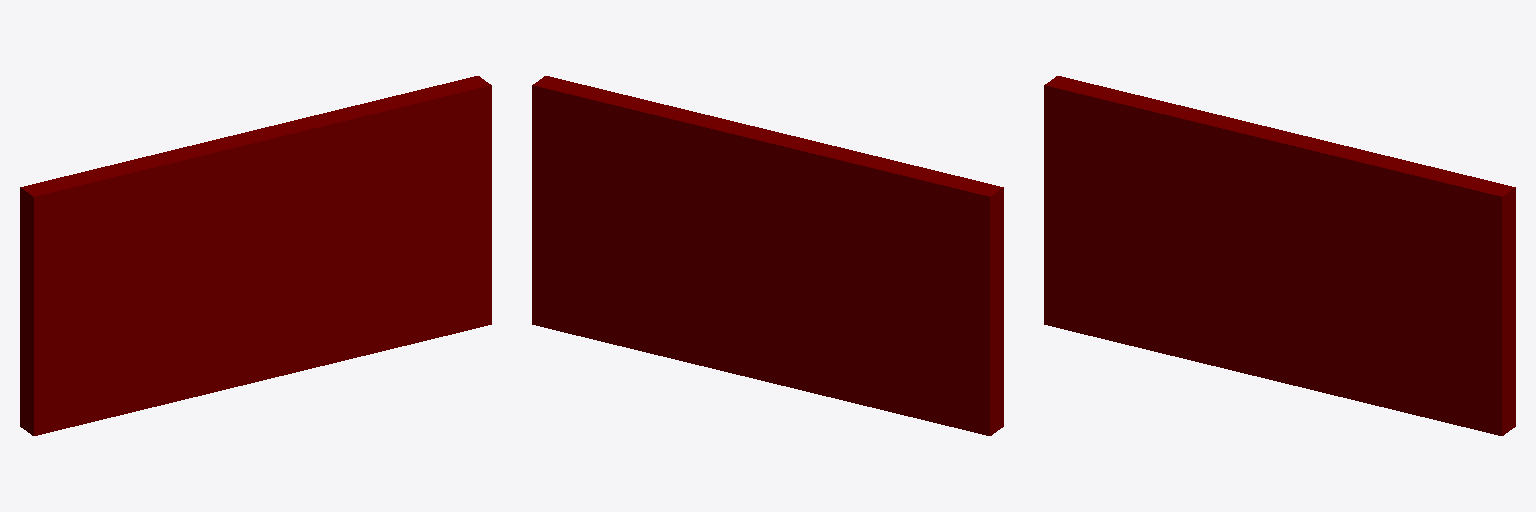
The robot description file, URDF, robot "left_wall":
<?xml version="1.0" ?>
<robot name="left_wall" xmlns:xacro="http://www.ros.org/wiki/xacro">
    <link name="wall_link">
        <inertial>
            <origin rpy="0 0 0" xyz="0 0 0"/>
            <mass value=".1"/>
            <inertia ixx="0" ixy="0" ixz="0" iyy="0" iyz="0" izz="0"/>
        </inertial>
        <visual>
            <origin rpy="0 0 0" xyz="0.5 0 0.25"/>
            <geometry>
                <box size="1.0 0.05 0.5"/>
            </geometry>
            <material name='red'>
                <color rgba="0.5 0.0 0.0 1.0"/>
            </material>
        </visual>
    </link>
</robot>

--- What the picture shows (computed from the rendered views, not written in the file) ---
The picture shows the robot from 3 angles, left to right: view 1: azimuth 30°, elevation 25°; view 2: azimuth 150°, elevation 25°; view 3: azimuth 330°, elevation 25°; orthographic projection.
Robot: left_wall — 1 links, 0 joints (none); root link wall_link; default pose: every joint at zero.
Visible links, largest first — view 1: wall_link; view 2: wall_link; view 3: wall_link.
Link boxes in pixels (left/top/right/bottom): wall_link: left=20, top=76, right=491, bottom=435; wall_link: left=532, top=76, right=1003, bottom=435; wall_link: left=1044, top=76, right=1515, bottom=435.
Size in the robot's own frame: 1 by 0.05 by 0.5 metres.
Geometry: primitives only (box / cylinder / sphere), no mesh files.